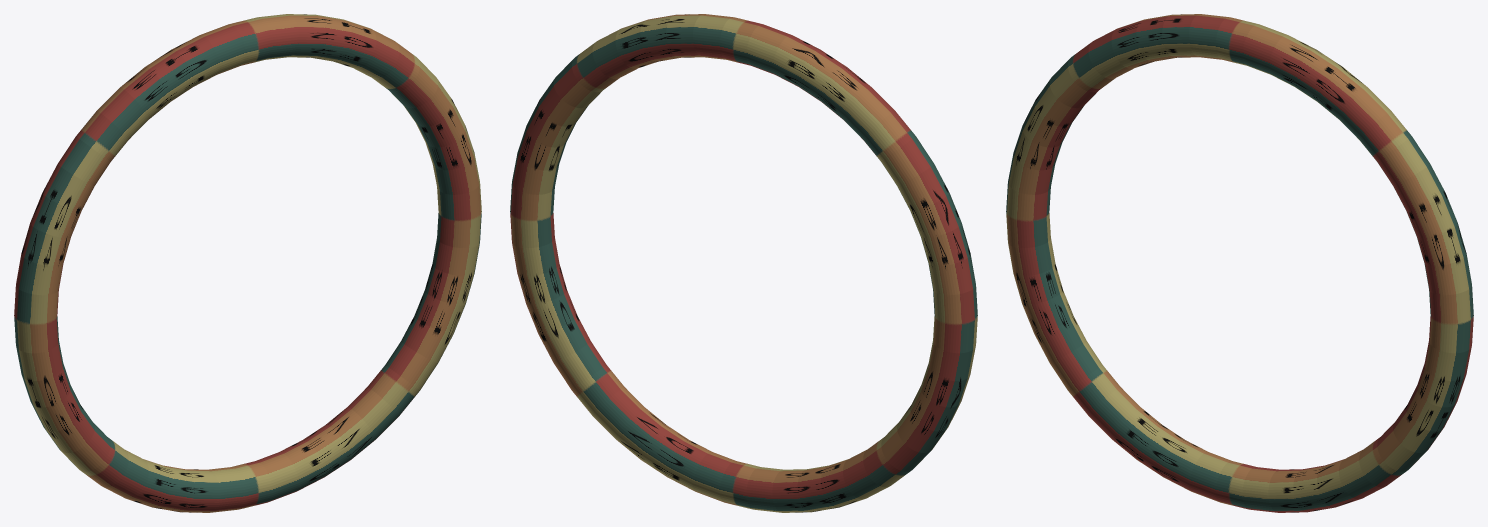
The model's file is texture_torus_R28_r2.glb.
3 renders of one model, left to right at view 1: azimuth 30°, elevation 25°; view 2: azimuth 150°, elevation 25°; view 3: azimuth 330°, elevation 25°, orthographic.
Parts seen in each view (by area): view 1: world; view 2: world; view 3: world.
Part boxes in pixels (box(x1,y1,x2,y2)): world: box(14, 14, 481, 512); world: box(510, 14, 977, 512); world: box(1006, 14, 1473, 512).
Size of the model in its own units: 31.2 by 31.14 by 2.53.
1 material, 1 textured.
